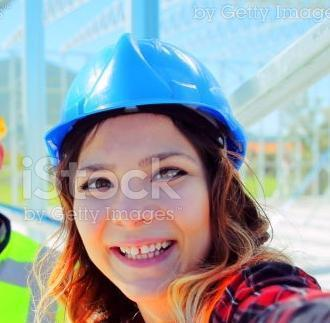helmet: (44, 33, 248, 168)
